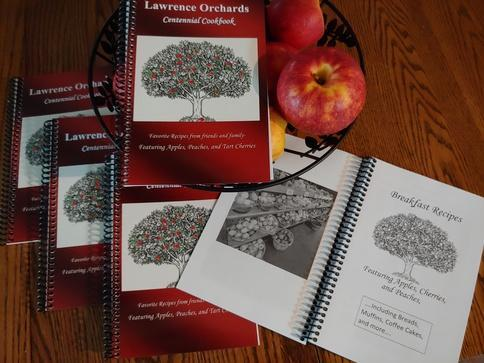apple: (277, 46, 366, 133)
